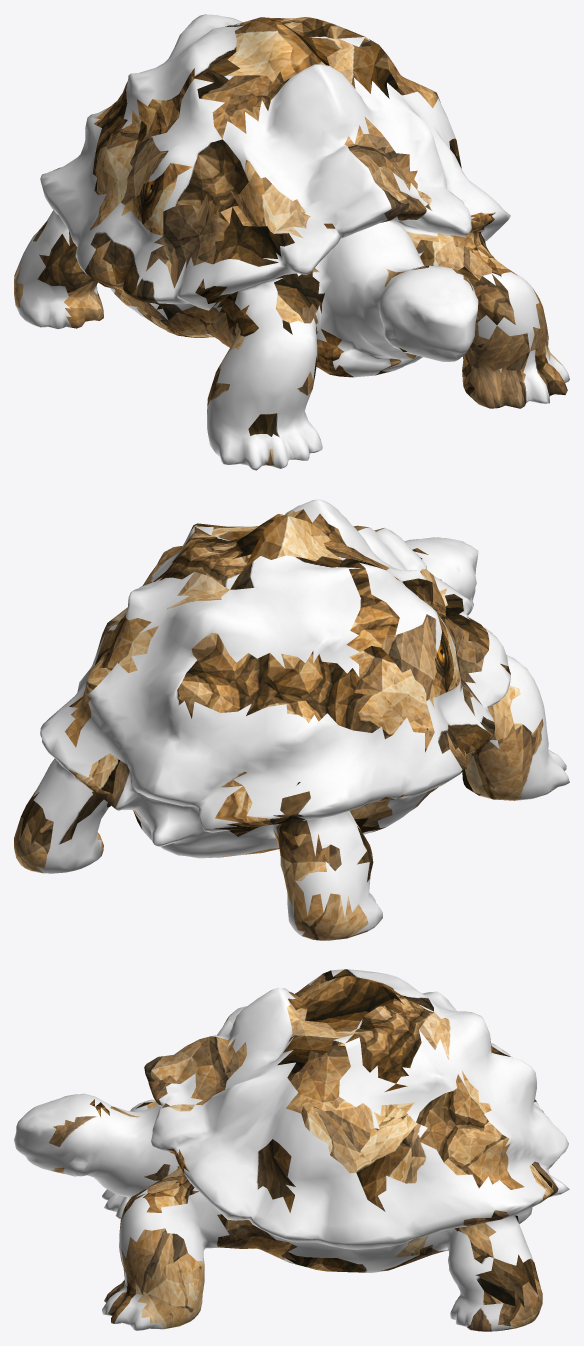
Rendered from dune_tortoise_basic_10k.fbx.
3 views of the same model, one above another, from view 1: azimuth 30°, elevation 25°; view 2: azimuth 150°, elevation 25°; view 3: azimuth 270°, elevation 25° (orthographic). The views are drawn at different scales.
Visible parts, largest first — view 1: dune_tortoise_basic_decimated; view 2: dune_tortoise_basic_decimated; view 3: dune_tortoise_basic_decimated.
Part boxes in pixels (left/top/right/bottom): dune_tortoise_basic_decimated: left=14, top=14, right=569, bottom=470; dune_tortoise_basic_decimated: left=14, top=499, right=569, bottom=940; dune_tortoise_basic_decimated: left=14, top=969, right=569, bottom=1331.
Size of the model in its own units: 1.33 by 1.06 by 1.91.
